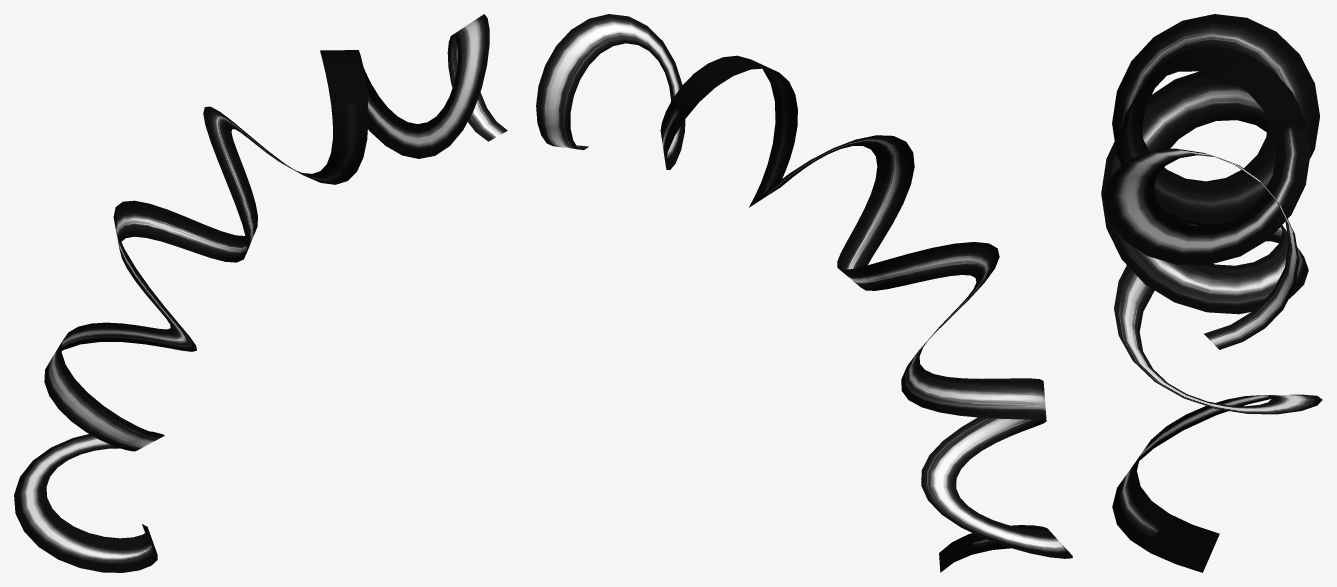
Rendered from xuanzhuanluoxuanpian_ly.FBX.
3 renders of one model, left to right at view 1: azimuth 30°, elevation 25°; view 2: azimuth 150°, elevation 25°; view 3: azimuth 270°, elevation 25°, orthographic. The views are drawn at different scales.
Visible parts, largest first — view 1: Helix001; view 2: Helix001; view 3: Helix001.
Part boxes in pixels (<box>): Helix001: <box>14,14,507,572</box>; Helix001: <box>536,14,1072,572</box>; Helix001: <box>1101,14,1322,572</box>.
Bounding box in the file's own units: 236 × 209 × 63.7.
